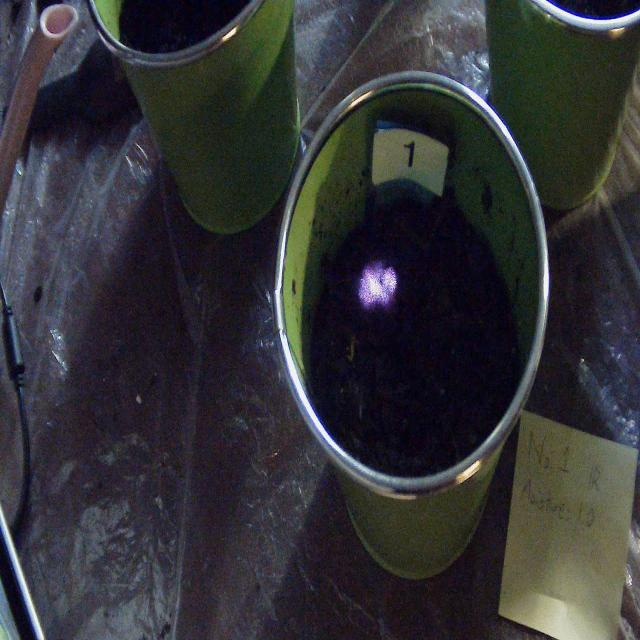soil-moisture-1.0: (360, 262, 397, 308)
